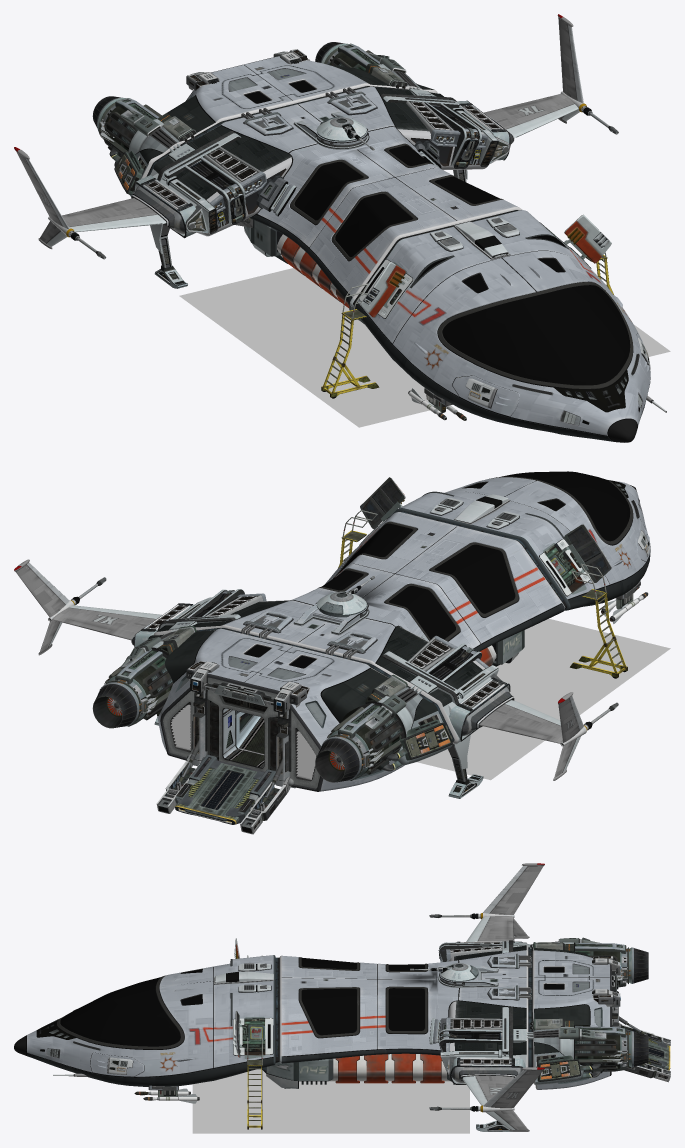
File: Raket.OBJ
3 views of the same model, one above another, from view 1: azimuth 30°, elevation 25°; view 2: azimuth 150°, elevation 25°; view 3: azimuth 270°, elevation 25° (orthographic). The views are drawn at different scales.
Visible parts, largest first — view 1: Figure_2, object 4, Figure_3; view 2: Figure_2, object 4, Figure_3, Figure_4; view 3: Figure_2, object 4, Figure_4.
Part boxes in pixels (x1,y1,x2,y2): Figure_2: (14,14,666,442); object 4: (179,268,670,427); Figure_3: (321,283,379,398); Figure_2: (14,471,650,834); object 4: (417,618,670,780); Figure_3: (570,563,627,678); Figure_4: (338,510,377,567); Figure_2: (14,863,670,1131); object 4: (192,1069,469,1133); Figure_4: (247,1038,262,1129).
Bounding box in the file's own units: 11.25 × 2.79 × 15.16.
Materials: 47 (46 with a texture image).
